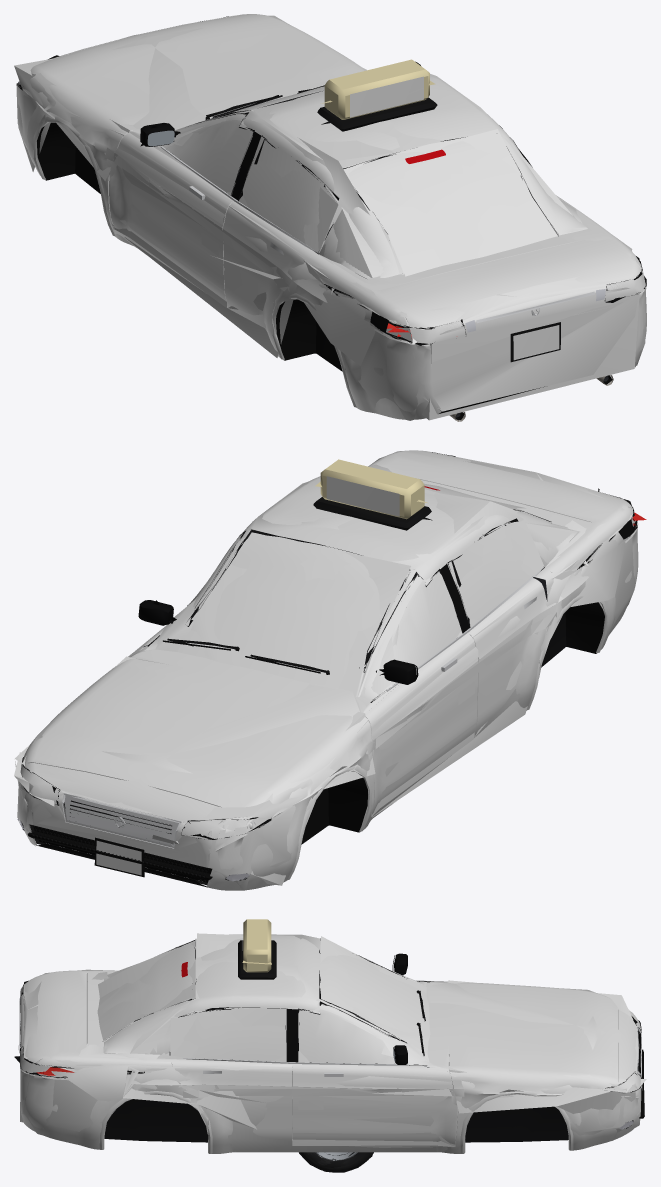
The model's file is taxi.glb.
3 views of the same model, one above another, from view 1: azimuth 30°, elevation 25°; view 2: azimuth 150°, elevation 25°; view 3: azimuth 270°, elevation 25° (orthographic). The views are drawn at different scales.
Visible parts, largest first — view 1: L0_paint, L1_paint, L0_glass, L2_paint, L0_details, L0_paint__dl, L1_glass, L2_glass, L0_lamps, L0_glass__dl, L2_paint__dl, L0_lens (+3 smaller); view 2: L0_paint, L0_glass, L1_paint, L0_details, L2_paint, L0_paint__dl, L1_glass, L0_lamps, L1_details, L0_glass__dl, L2_glass, L2_paint__dl (+4 smaller); view 3: L0_paint, L1_paint, L0_glass, L0_details, L0_paint__dr, L2_paint, L1_glass, L0_glass__dr, L2_glass, L1_paint__dr, L2_paint__dr, L0_lamps (+7 smaller).
Boxes of the visible parts, <box> form: L0_paint: <box>17,14,646,419</box>; L1_paint: <box>16,15,645,420</box>; L0_glass: <box>160,91,550,265</box>; L2_paint: <box>14,58,639,420</box>; L0_details: <box>17,16,646,421</box>; L0_paint__dl: <box>109,132,233,306</box>; L1_glass: <box>160,86,556,273</box>; L2_glass: <box>173,126,556,276</box>; L0_lamps: <box>324,59,605,338</box>; L0_glass__dl: <box>167,120,253,195</box>; L2_paint__dl: <box>109,131,226,307</box>; L0_lens: <box>379,270,645,343</box>; L0_paint: <box>18,450,638,890</box>; L0_glass: <box>149,484,531,700</box>; L1_paint: <box>17,451,635,890</box>; L0_details: <box>21,452,637,887</box>; L2_paint: <box>15,473,625,885</box>; L0_paint__dl: <box>356,633,478,814</box>; L1_glass: <box>145,483,544,696</box>; L0_lamps: <box>208,459,633,835</box>; L1_details: <box>22,454,637,879</box>; L0_glass__dl: <box>391,571,461,685</box>; L2_glass: <box>155,498,544,695</box>; L2_paint__dl: <box>355,647,478,816</box>; L0_paint: <box>20,935,640,1153</box>; L1_paint: <box>20,934,641,1153</box>; L0_glass: <box>98,944,429,1065</box>; L0_details: <box>18,940,644,1142</box>; L0_paint__dr: <box>292,1064,457,1144</box>; L2_paint: <box>20,933,641,1147</box>; L1_glass: <box>97,941,433,1065</box>; L0_glass__dr: <box>298,1009,395,1063</box>; L2_glass: <box>98,936,429,1062</box>; L1_paint__dr: <box>292,1062,455,1146</box>; L2_paint__dr: <box>292,1065,456,1146</box>; L0_lamps: <box>19,919,636,1086</box>.
Bounding box in the file's own units: 2.18 × 2.02 × 4.95.
